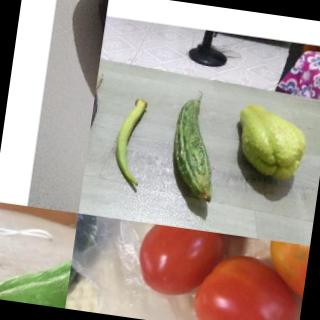Tomat: (128, 221, 309, 320)
